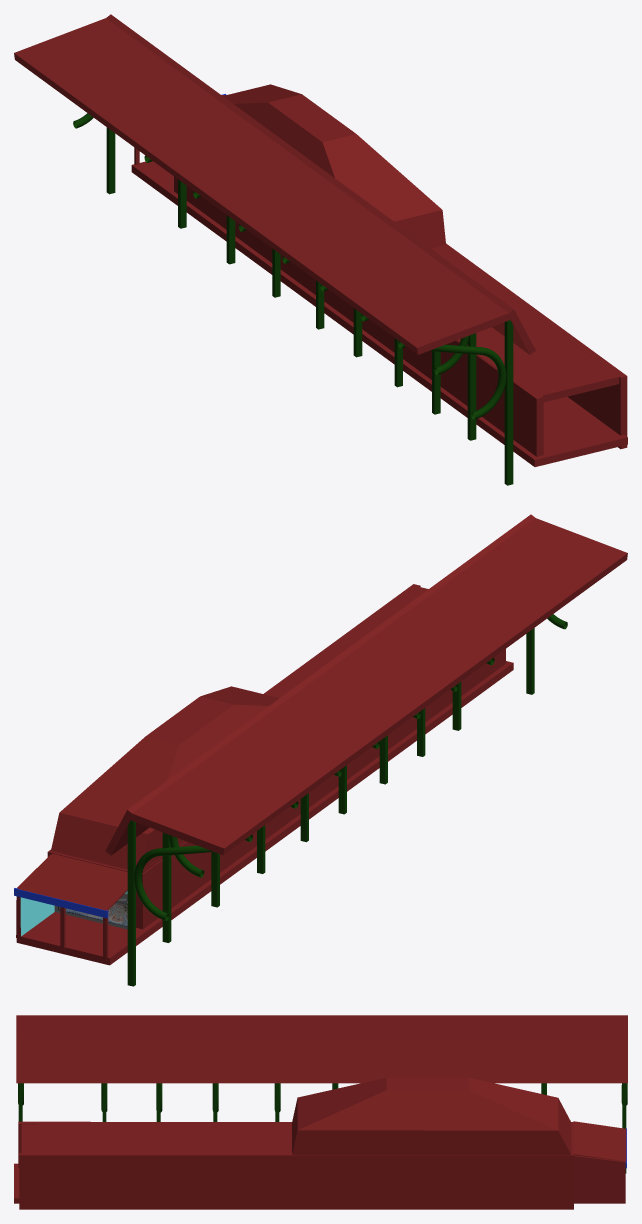
File: Outerharbor test 2.fbx
3 renders of one model, top to bottom at view 1: azimuth 30°, elevation 25°; view 2: azimuth 150°, elevation 25°; view 3: azimuth 270°, elevation 25°, orthographic. The views are drawn at different scales.
Visible parts, largest first — view 1: Cube.023, Cube.020, Cube.018, Cube.019, Cube.007, Cube.024, Cube.003, Cube.022, NurbsCircle.002, Cube.032; view 2: Cube.023, Cube.020, Cube.018, Cube.019, Cube.024, Cube.011, Cube.007, Cube.009, Cube.003, NurbsCircle.001, Cube.008, Cube.025 (+1 smaller); view 3: Cube.003, Cube.024, Cube.020, Cube.023, Cube.007, Cube.008, Cube.011, Cube.018.
Part boxes in pixels (x1=…): Cube.023: x1=14, y1=18, x2=510, y2=354; Cube.020: x1=223, y1=84, x2=445, y2=248; Cube.018: x1=131, y1=161, x2=627, y2=466; Cube.019: x1=174, y1=176, x2=543, y2=456; Cube.007: x1=431, y1=246, x2=619, y2=402; Cube.024: x1=106, y1=14, x2=535, y2=354; Cube.003: x1=441, y1=243, x2=627, y2=449; Cube.022: x1=504, y1=320, x2=513, y2=485; NurbsCircle.002: x1=430, y1=344, x2=506, y2=419; Cube.032: x1=467, y1=333, x2=476, y2=440; Cube.023: x1=131, y1=518, x2=627, y2=855; Cube.020: x1=51, y1=686, x2=279, y2=869; Cube.018: x1=16, y1=661, x2=513, y2=965; Cube.019: x1=136, y1=649, x2=505, y2=929; Cube.024: x1=105, y1=514, x2=535, y2=855; Cube.011: x1=18, y1=853, x2=127, y2=910; Cube.007: x1=50, y1=587, x2=428, y2=873; Cube.009: x1=127, y1=820, x2=135, y2=986; Cube.003: x1=47, y1=584, x2=420, y2=856; NurbsCircle.001: x1=134, y1=845, x2=210, y2=920; Cube.008: x1=16, y1=854, x2=54, y2=938; Cube.025: x1=162, y1=832, x2=171, y2=942; Cube.003: x1=19, y1=1153, x2=573, y2=1209; Cube.024: x1=16, y1=1039, x2=627, y2=1083; Cube.020: x1=292, y1=1077, x2=571, y2=1154; Cube.023: x1=16, y1=1015, x2=627, y2=1039; Cube.007: x1=21, y1=1122, x2=573, y2=1152; Cube.008: x1=574, y1=1155, x2=625, y2=1200; Cube.011: x1=573, y1=1121, x2=626, y2=1161; Cube.018: x1=14, y1=1163, x2=625, y2=1203.
Bounding box in the file's own units: 91.01 × 301 × 72.18.
